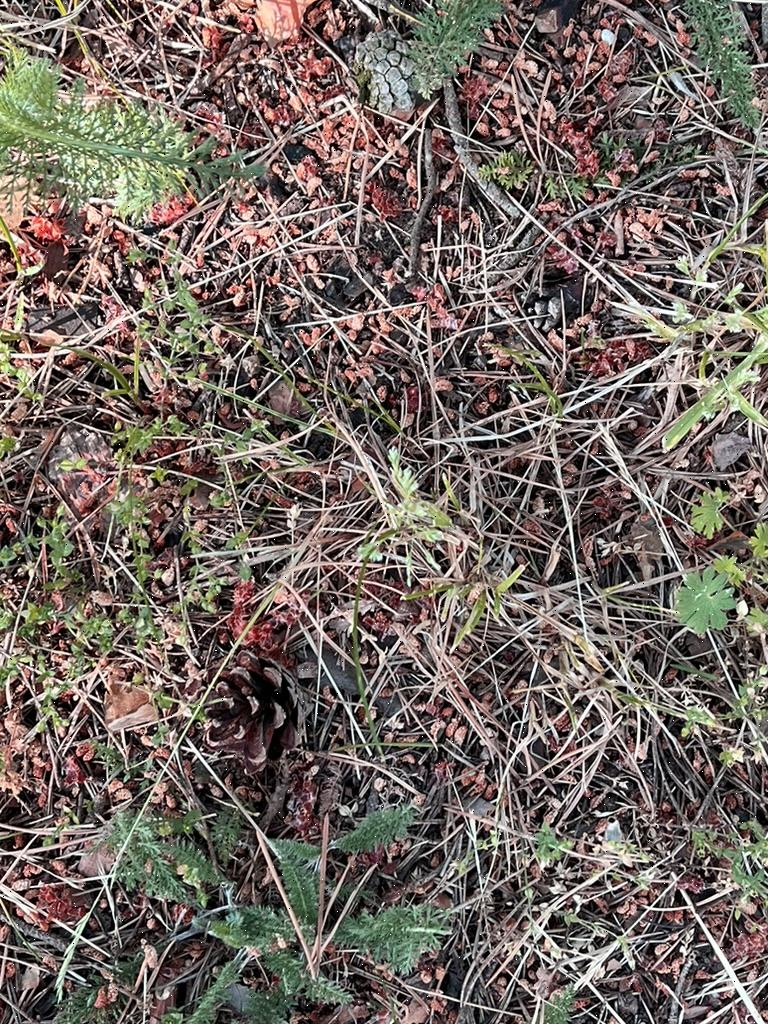pine: (198, 638, 328, 780), (346, 11, 443, 124), (503, 273, 591, 343)
